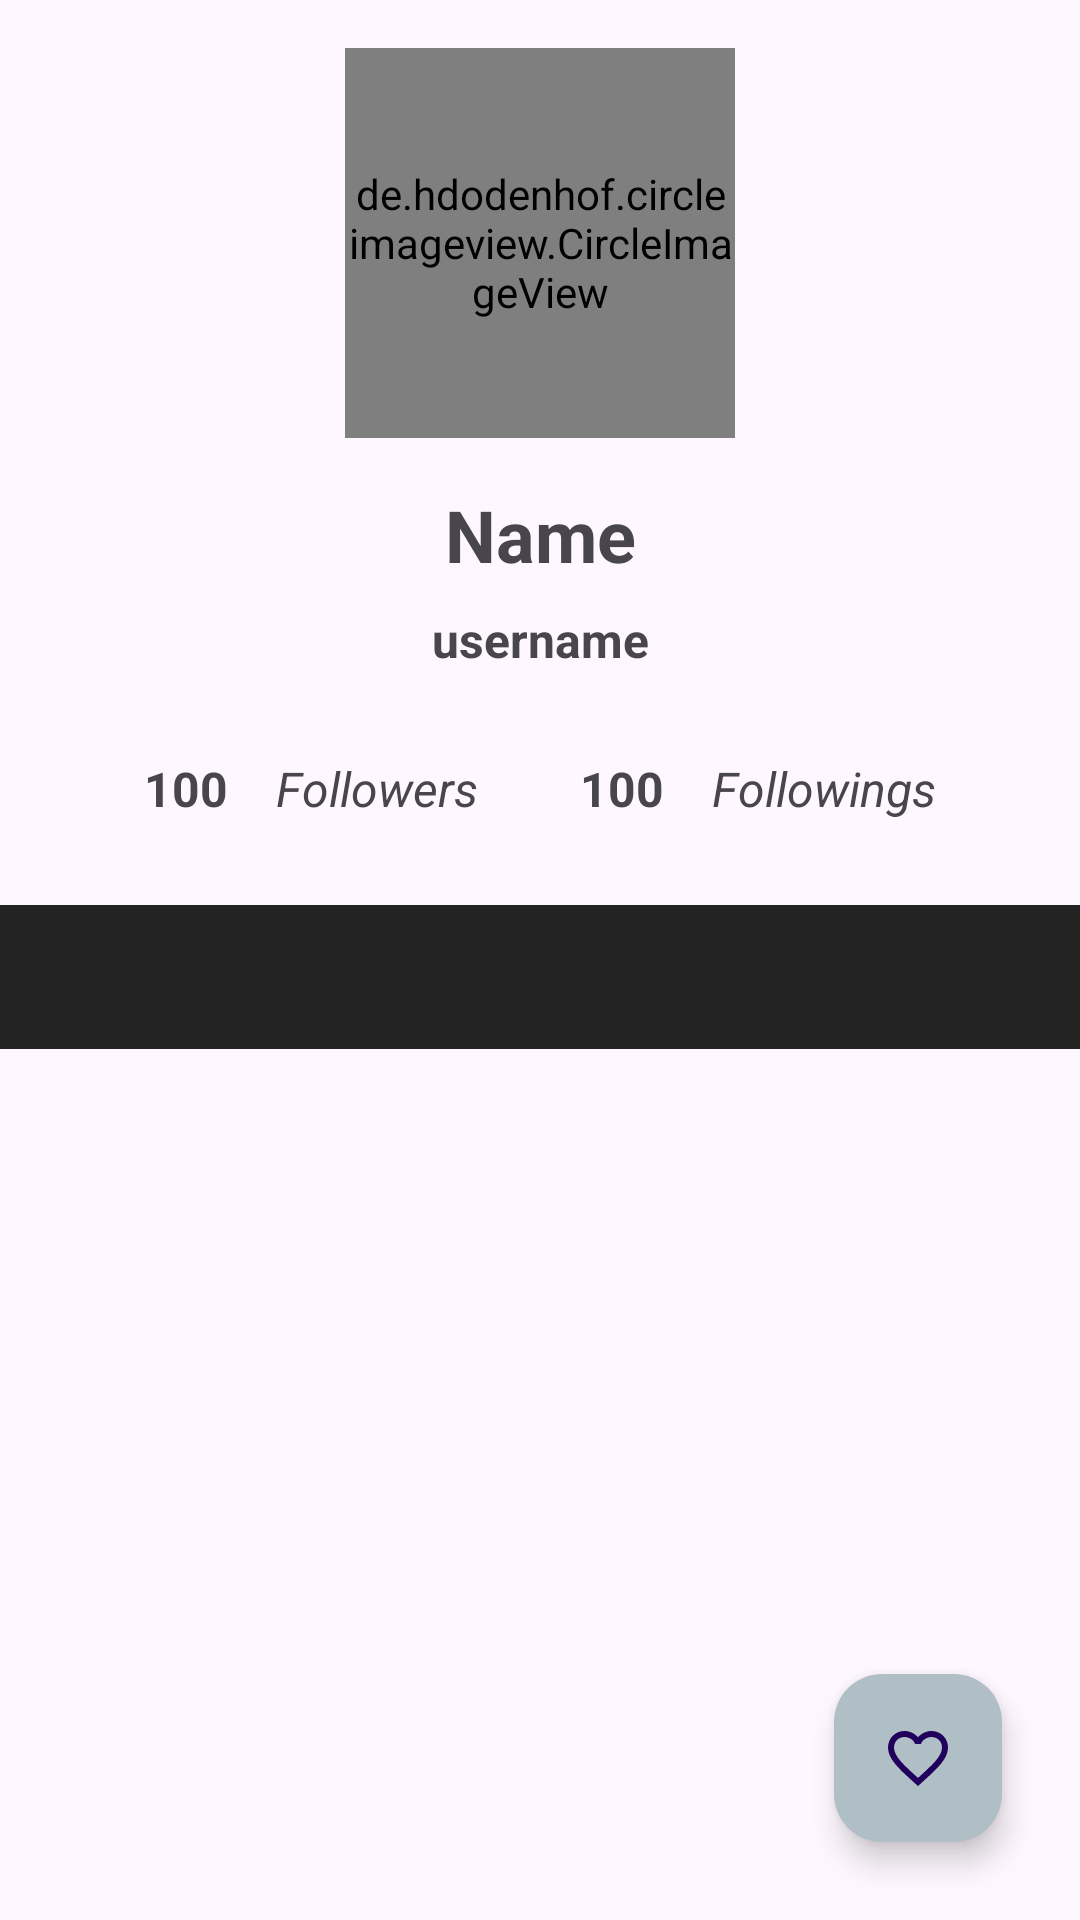

Screen size 1080px x 1920px. Icon name, then its box in pixels as (x1, y1, x2, y2):
favorite border: (834, 1674, 1002, 1842)
